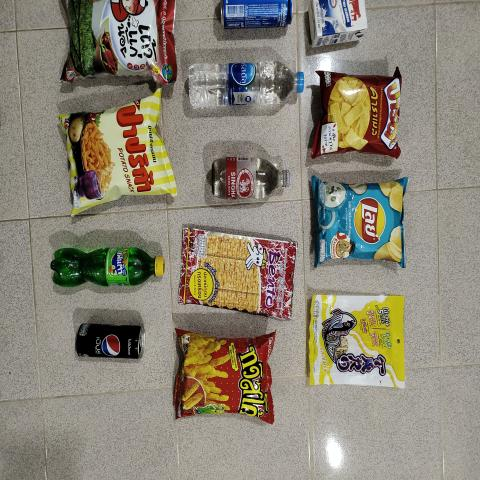bento_red: (183, 225, 296, 310)
crystal: (189, 62, 307, 109)
fanta_green: (52, 246, 167, 290)
lay_blue: (318, 185, 400, 255)
paprika: (60, 106, 170, 199)
party_red: (324, 72, 402, 150)
pepsi_black: (74, 325, 143, 358)
pepsi_blue: (220, 0, 296, 26)
singha_soda: (210, 155, 293, 205)
taokaenoi: (61, 0, 172, 77)
taro_yellow: (313, 296, 402, 382)
thai_denmark: (314, 0, 365, 50)
twisco: (181, 336, 269, 416)
